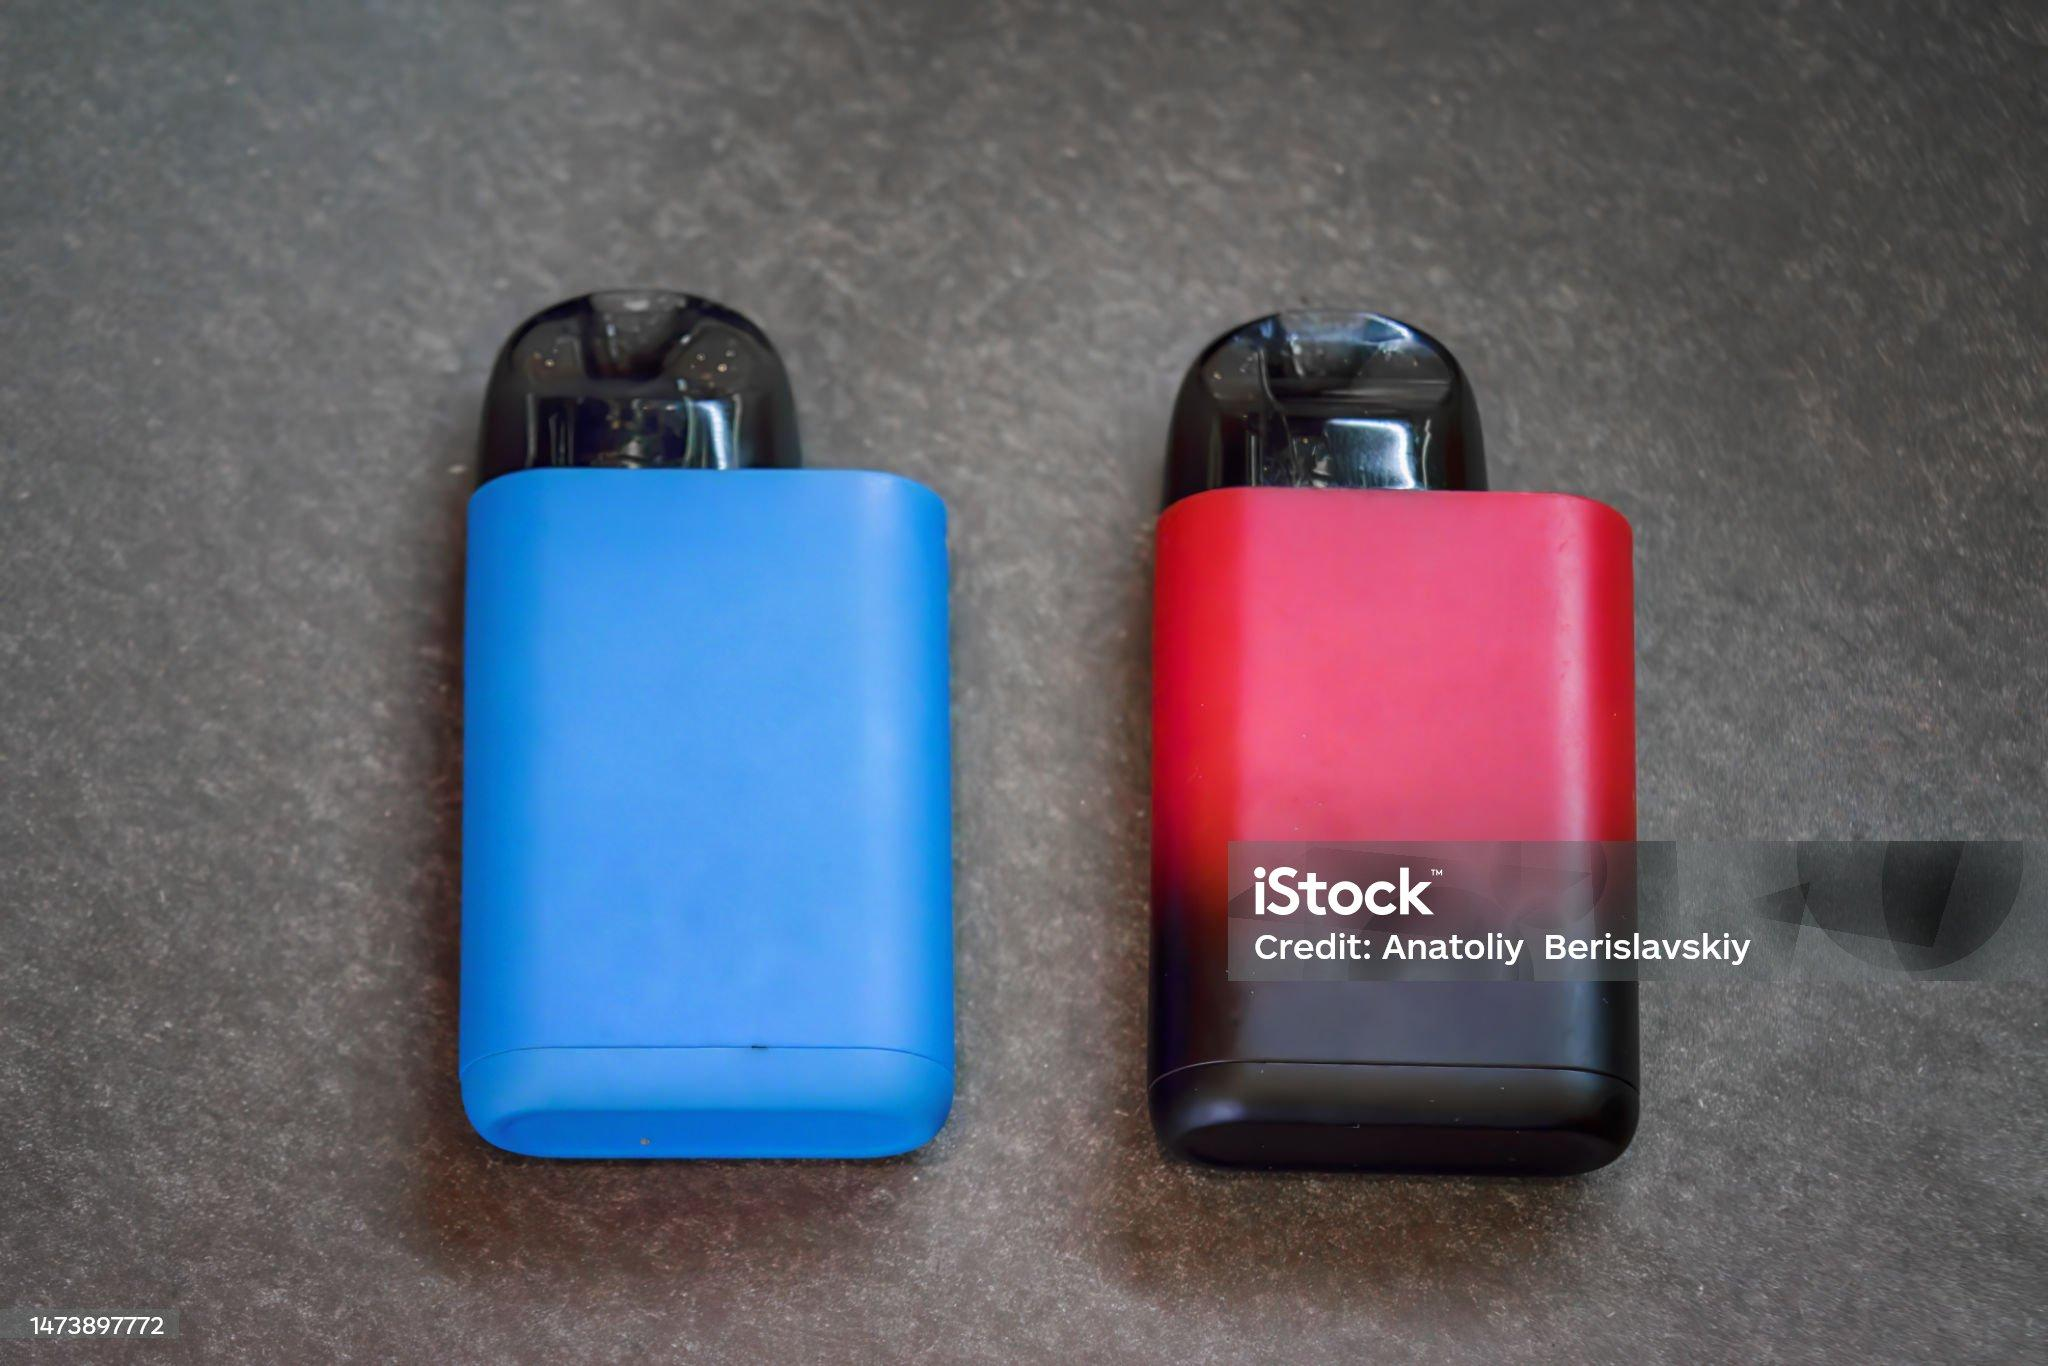Vape: (1150, 311, 1704, 1172), (460, 290, 952, 1157)
